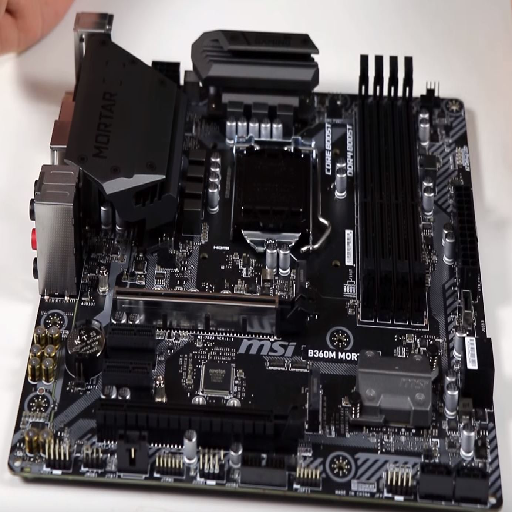CPU: (210, 124, 318, 265)
GPU: (94, 396, 303, 442), (109, 286, 308, 330)
MOTHERBOARD: (8, 10, 505, 508)
RAM: (353, 52, 431, 330)
